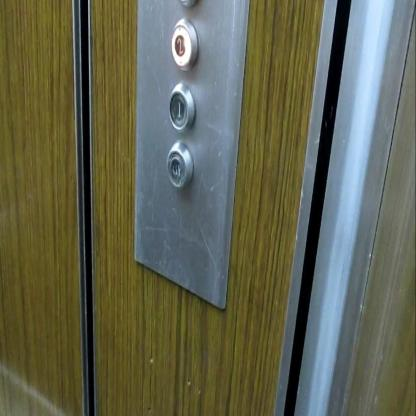1: (167, 80, 196, 134)
2: (169, 16, 200, 74)
GF: (166, 139, 194, 192)
